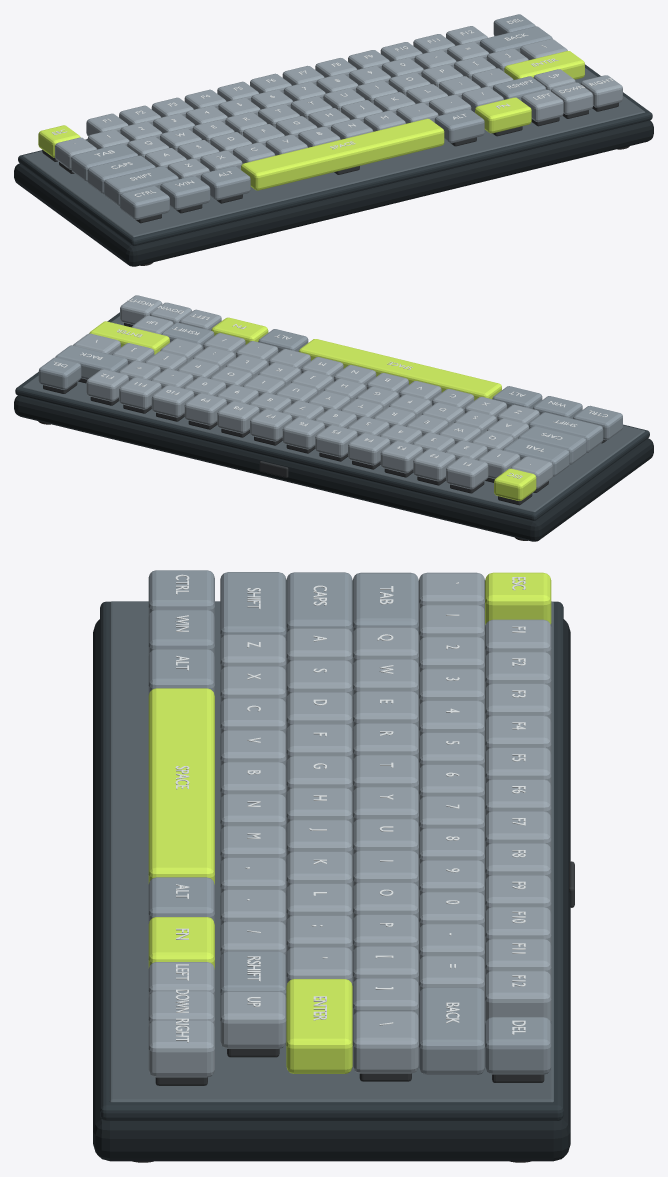
File: mechanical-keyboard.glb
3 renders of one model, top to bottom at view 1: azimuth 30°, elevation 25°; view 2: azimuth 150°, elevation 25°; view 3: azimuth 270°, elevation 25°, orthographic. The views are drawn at different scales.
Visible parts, largest first — view 1: CASE | Main, PLATE | Main, CASE | Upper Frame, Key_SPACE, Key_FN, Key_ENTER, Key_SHIFT, Key_CTRL, Key_ALT, Key_ALT.001, Key_WIN, Key_CAPS (+68 smaller); view 2: CASE | Main, CASE | Upper Frame, PLATE | Main, Key_SPACE, Key_SHIFT, Key_BACK, Key_ENTER, Key_CAPS, Key_TAB, Key_DEL, Key_F1, Key_ESC (+68 smaller); view 3: PLATE | Main, CASE | Main, CASE | Upper Frame, Key_SPACE, Key_ENTER, Key_BACK, Key_SHIFT, Key_\, Key_UP, Key_DEL, Key_RIGHT, Key_CAPS (+68 smaller).
Boxes of the visible parts, x1,y1,x2,y2 form: CASE | Main: (14,120,653,266); PLATE | Main: (22,68,645,237); CASE | Upper Frame: (18,64,652,245); Key_SPACE: (241,118,444,190); Key_FN: (475,97,531,133); Key_ENTER: (504,51,584,79); Key_SHIFT: (104,166,178,206); Key_CTRL: (120,185,169,219); Key_ALT: (200,166,250,200); Key_ALT.001: (434,109,484,143); Key_WIN: (160,176,210,210); Key_CAPS: (87,155,155,194); CASE | Main: (14,395,653,541); CASE | Upper Frame: (15,312,649,520); PLATE | Main: (22,316,645,512); Key_SPACE: (298,339,501,400); Key_SHIFT: (528,412,603,452); Key_BACK: (55,345,127,379); Key_ENTER: (89,321,169,354); Key_CAPS: (518,426,586,464); Key_TAB: (503,438,569,476); Key_DEL: (38,357,81,389); Key_F1: (446,457,488,489); Key_ESC: (494,468,536,500); PLATE | Main: (109,601,553,1102); CASE | Main: (93,619,570,1161); CASE | Upper Frame: (100,601,563,1120); Key_SPACE: (148,688,214,884); Key_ENTER: (286,979,352,1073); Key_BACK: (419,987,484,1074); Key_SHIFT: (220,572,286,640); Key_\: (352,1011,418,1073); Key_UP: (220,991,286,1048); Key_DEL: (485,1017,551,1074); Key_RIGHT: (148,1019,214,1077); Key_CAPS: (286,572,352,635).
Bounding box in the file's own units: 15.8 × 1.66 × 6.25.
